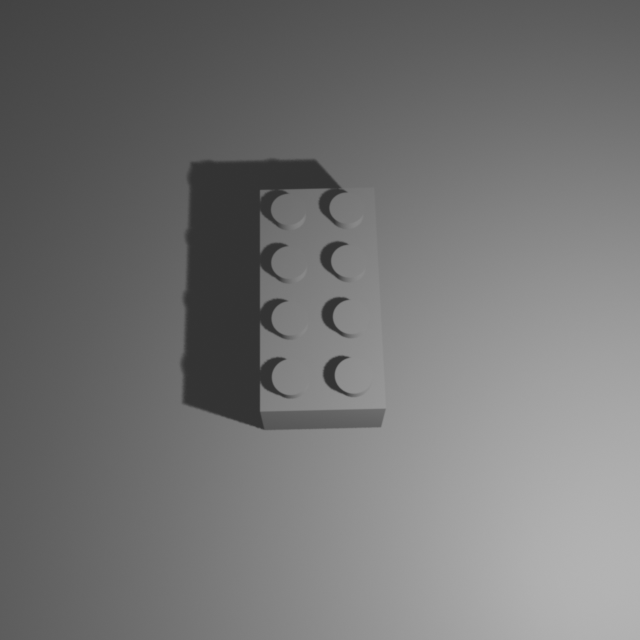lego_2x4: (259, 182, 387, 430)
